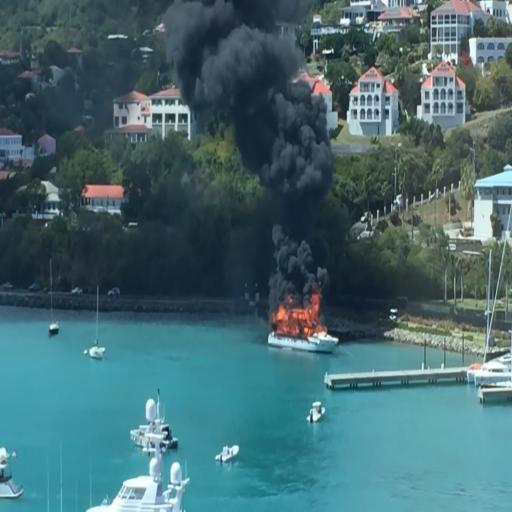fire: (271, 295, 327, 338)
smoke: (168, 6, 294, 114), (240, 88, 333, 200)
